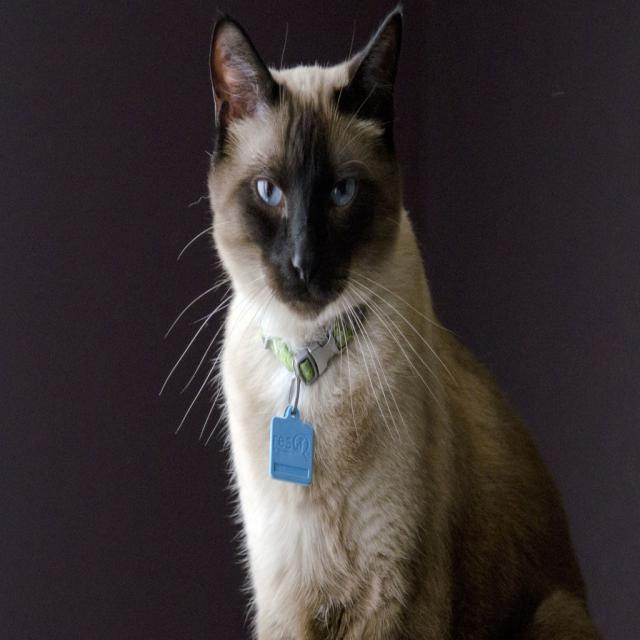Cat: (158, 0, 601, 639)
